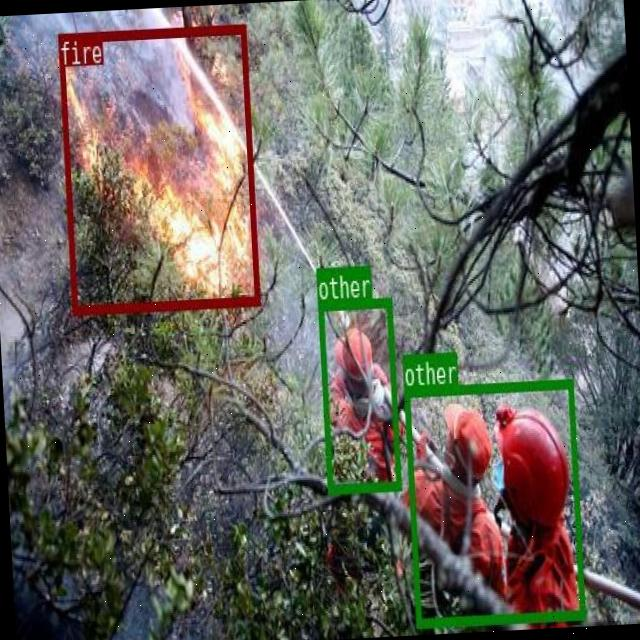fire: (57, 24, 259, 313)
